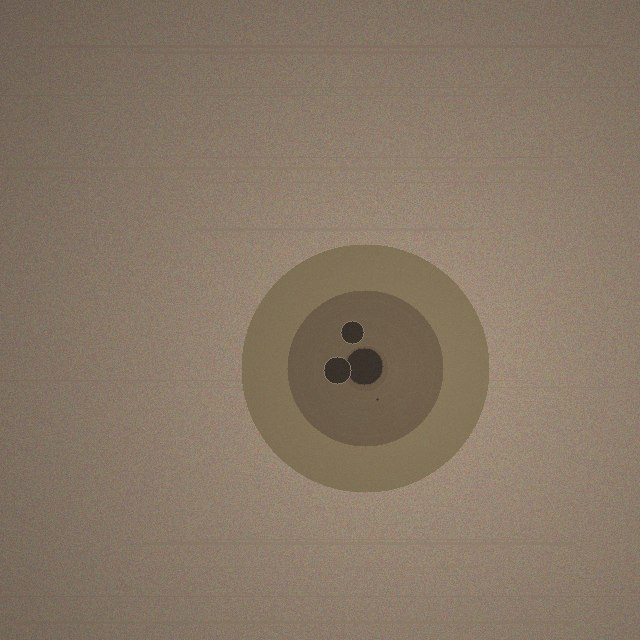shrinkage: (241, 244, 489, 492)
